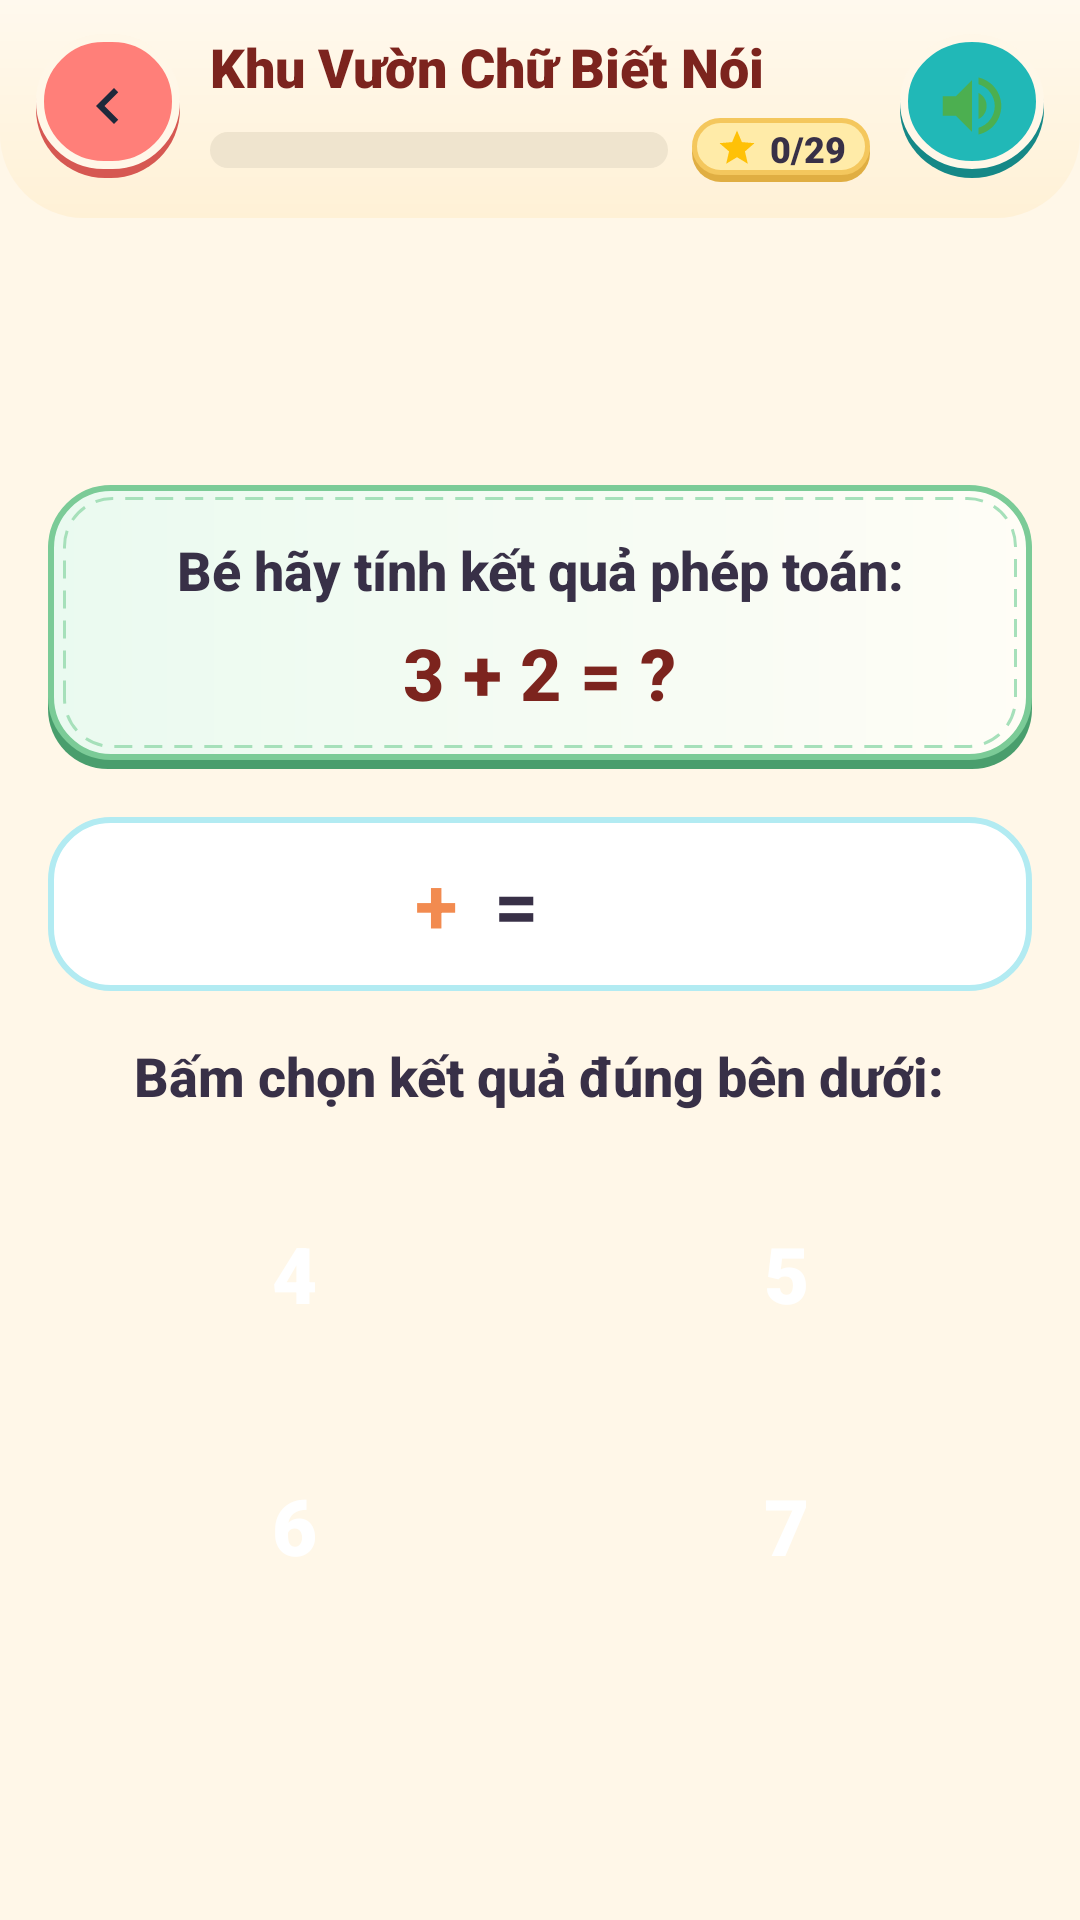

Named icons in this screenshot (1080px x 1920px) and their bounding boxes, [x1=x1, y1=y1, x2=x2, y2=y2]:
Bật hoặc tắt âm thanh ứng dụng: [x1=900, y1=42, x2=1044, y2=178]
Quay lại: [x1=36, y1=42, x2=180, y2=178]
star: [x1=720, y1=131, x2=754, y2=164]
